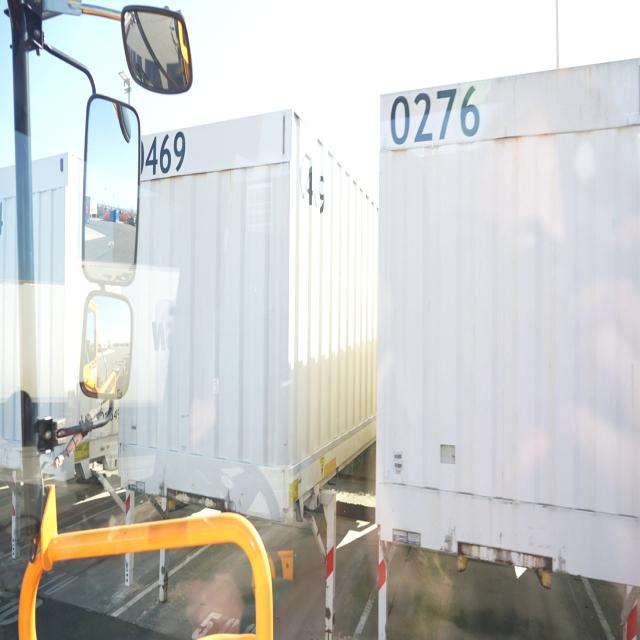Code: (386, 86, 480, 148)
